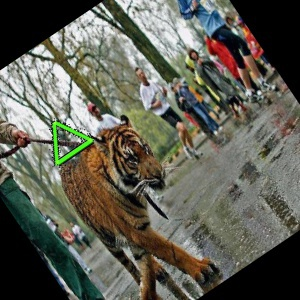triangle: (47, 117, 96, 168)
